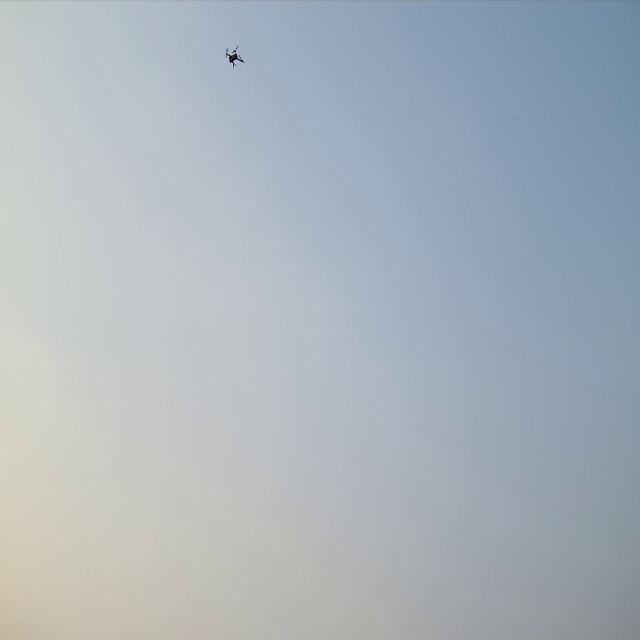UAV: (223, 42, 247, 73)
